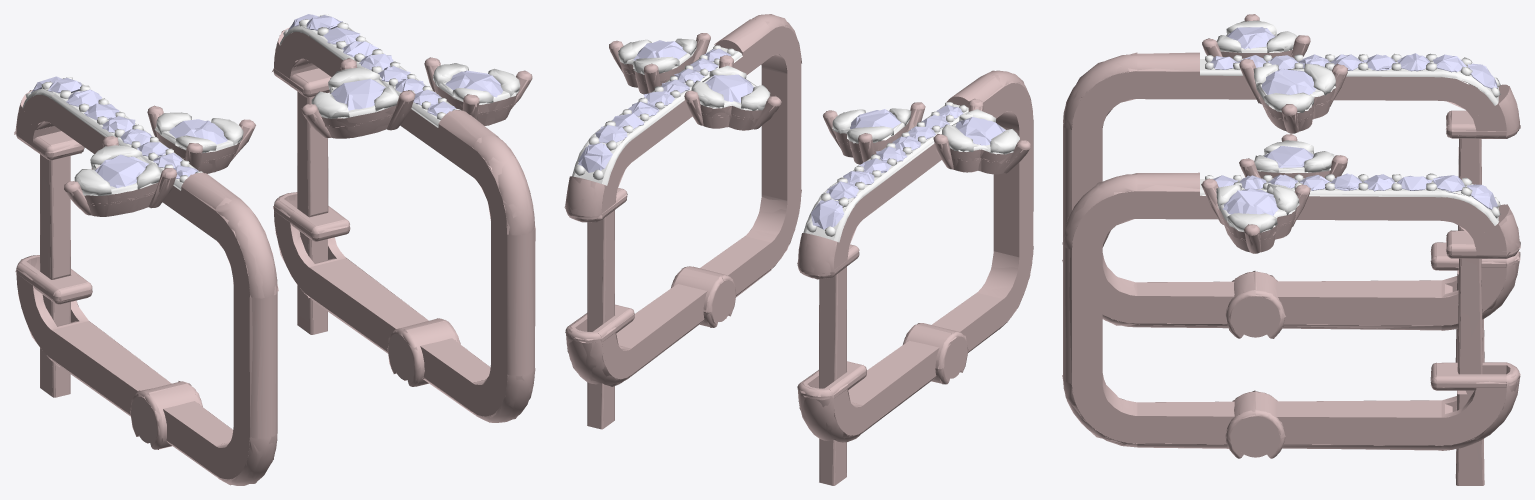
The picture shows the model from 3 angles, left to right: view 1: azimuth 30°, elevation 25°; view 2: azimuth 150°, elevation 25°; view 3: azimuth 270°, elevation 25°; orthographic projection. The views are drawn at different scales.
Visible parts, largest first — view 1: highPolyMesh, lowPolyMesh; view 2: highPolyMesh, lowPolyMesh; view 3: lowPolyMesh, highPolyMesh.
Boxes of the visible parts, left/top/right/bottom form: highPolyMesh: left=16, top=14, right=535, bottom=485; lowPolyMesh: left=14, top=14, right=535, bottom=485; highPolyMesh: left=566, top=14, right=1033, bottom=485; lowPolyMesh: left=564, top=16, right=1033, bottom=484; lowPolyMesh: left=1062, top=14, right=1520, bottom=485; highPolyMesh: left=1063, top=14, right=1519, bottom=485.
Size of the model in its own units: 0.0238 by 0.0158 by 0.0211.
